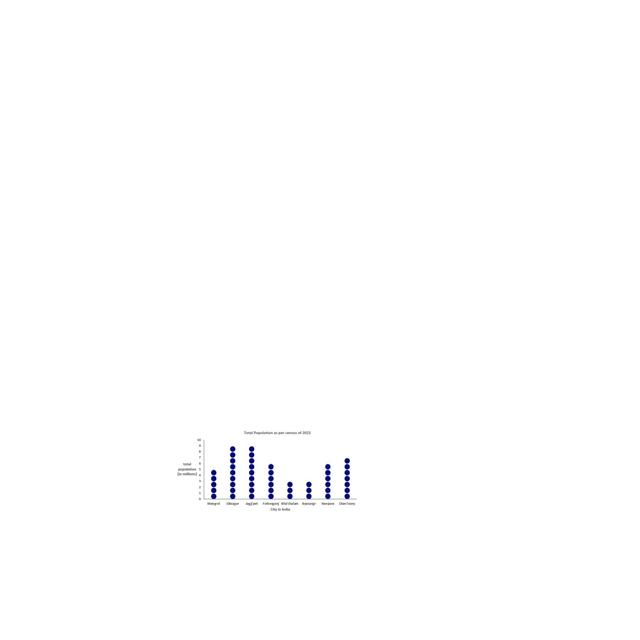Graph: (175, 430, 358, 512)
